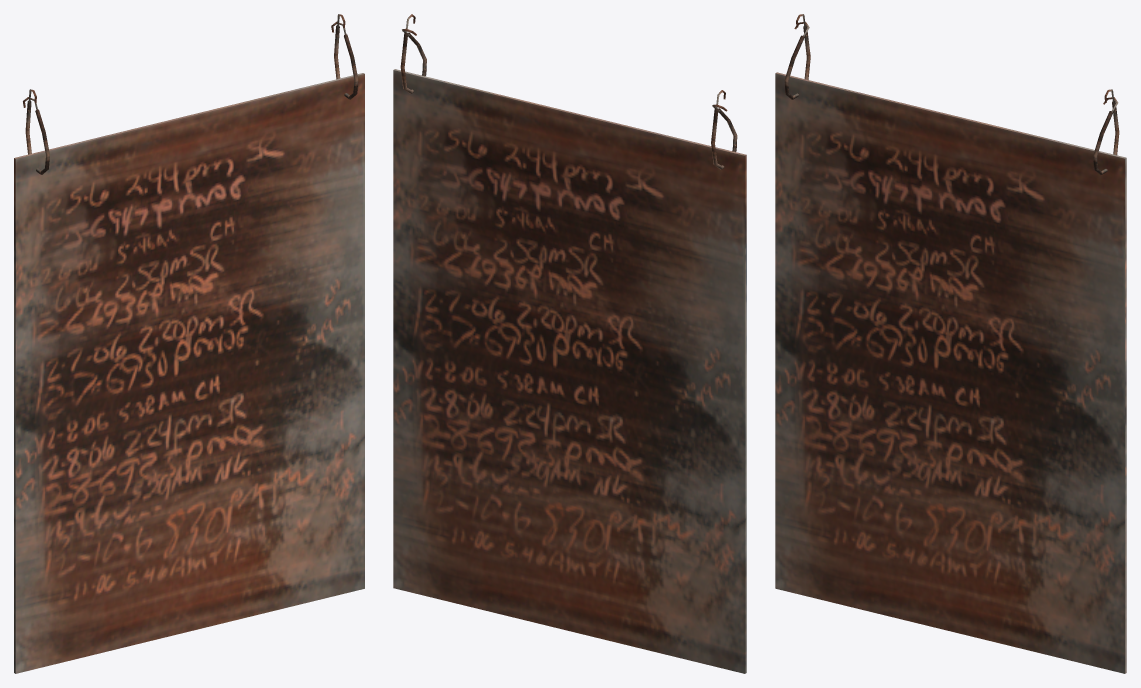
File: Sign_ChalkBoard.fbx
3 renders of one model, left to right at view 1: azimuth 30°, elevation 25°; view 2: azimuth 150°, elevation 25°; view 3: azimuth 330°, elevation 25°, orthographic.
Visible parts, largest first — view 1: Sign_ChalkBoard; view 2: Sign_ChalkBoard; view 3: Sign_ChalkBoard.
Boxes of the visible parts, box(x1,y1,x2,y2) form: Sign_ChalkBoard: box(14, 14, 364, 673); Sign_ChalkBoard: box(393, 14, 746, 673); Sign_ChalkBoard: box(775, 14, 1126, 673).
Size of the model in its own units: 63.81 by 101 by 7.34.
